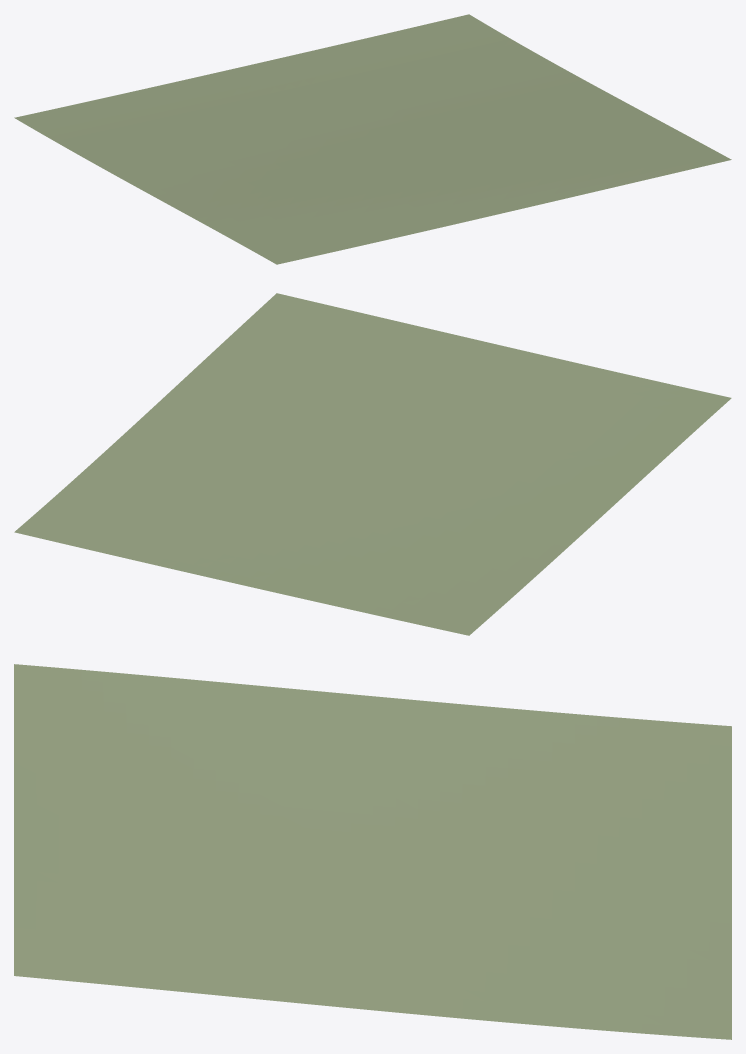
File: desert-5-26.glb
The picture shows the model from 3 angles, top to bottom: view 1: azimuth 30°, elevation 25°; view 2: azimuth 150°, elevation 25°; view 3: azimuth 270°, elevation 25°; orthographic projection. The views are drawn at different scales.
Parts seen in each view (by area): view 1: desert-5-26; view 2: desert-5-26; view 3: desert-5-26.
Part boxes in pixels (x1,y1,x2,y2): desert-5-26: (14, 14, 731, 264); desert-5-26: (14, 293, 731, 635); desert-5-26: (14, 664, 731, 1039).
Bounding box in the file's own units: 512 × 56.94 × 512.
